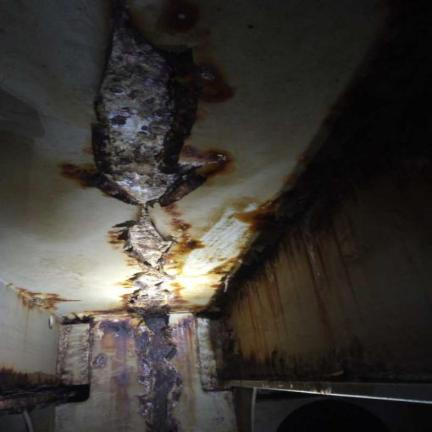besi_tidak_karat: (130, 0, 385, 241), (0, 0, 139, 314)
karat: (92, 0, 194, 203), (56, 316, 149, 431), (134, 308, 181, 431), (162, 49, 206, 173), (125, 210, 171, 286), (60, 163, 137, 204), (62, 164, 137, 204), (159, 169, 204, 206)
